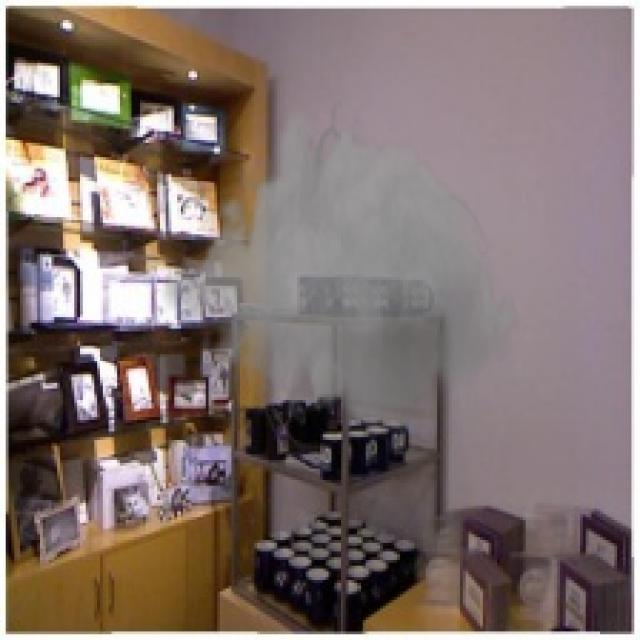smoke: (160, 91, 520, 468)
